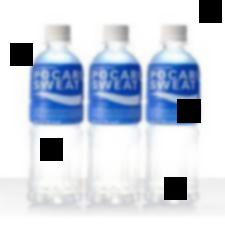pocarisweat: (84, 23, 142, 206), (145, 24, 201, 203), (28, 24, 80, 205)
